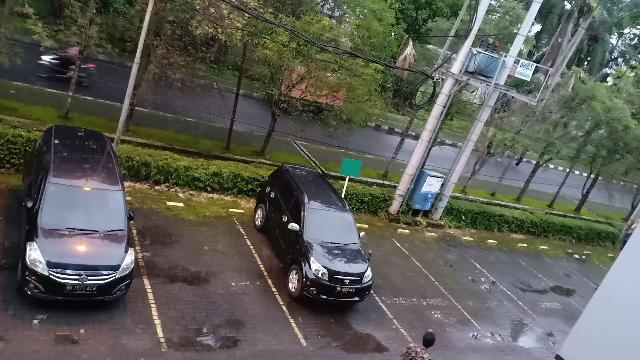empty: (144, 199, 256, 347), (373, 228, 445, 346), (442, 235, 503, 335), (501, 238, 549, 330)
occupied: (4, 158, 148, 336), (254, 207, 376, 341)
